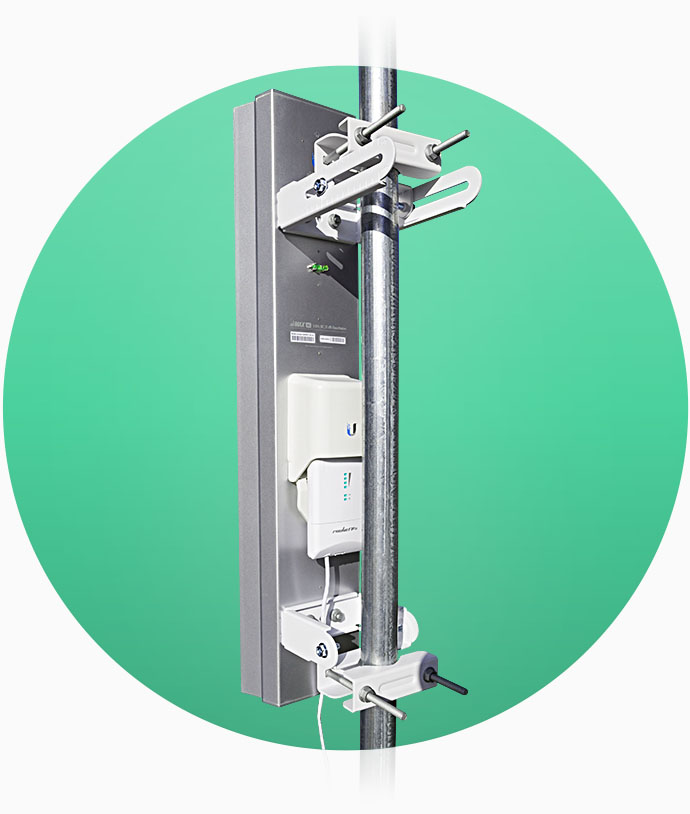sa: (226, 76, 402, 730)
